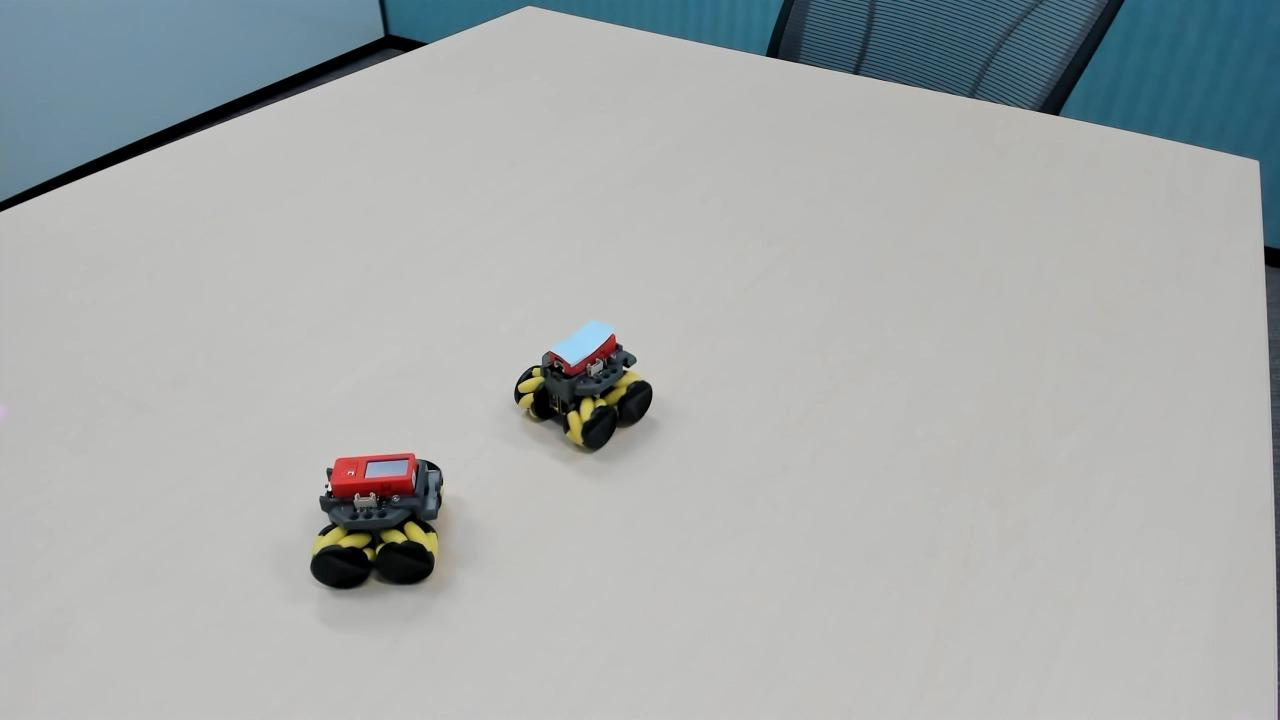B-Robot: (495, 314, 671, 466)
R-Robot: (303, 440, 454, 589)
